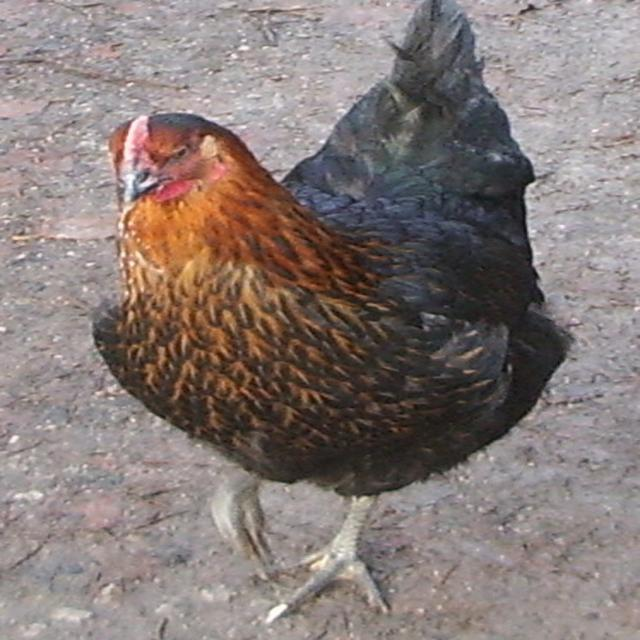Chicken: (91, 0, 574, 622)
